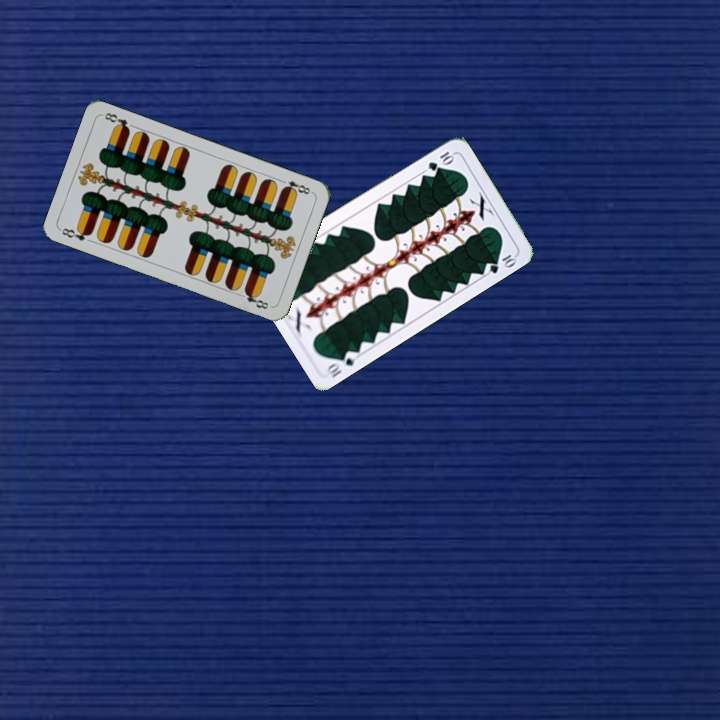E8: (276, 175, 315, 197), (57, 224, 95, 243)
G10: (323, 347, 361, 381), (424, 147, 457, 173)
